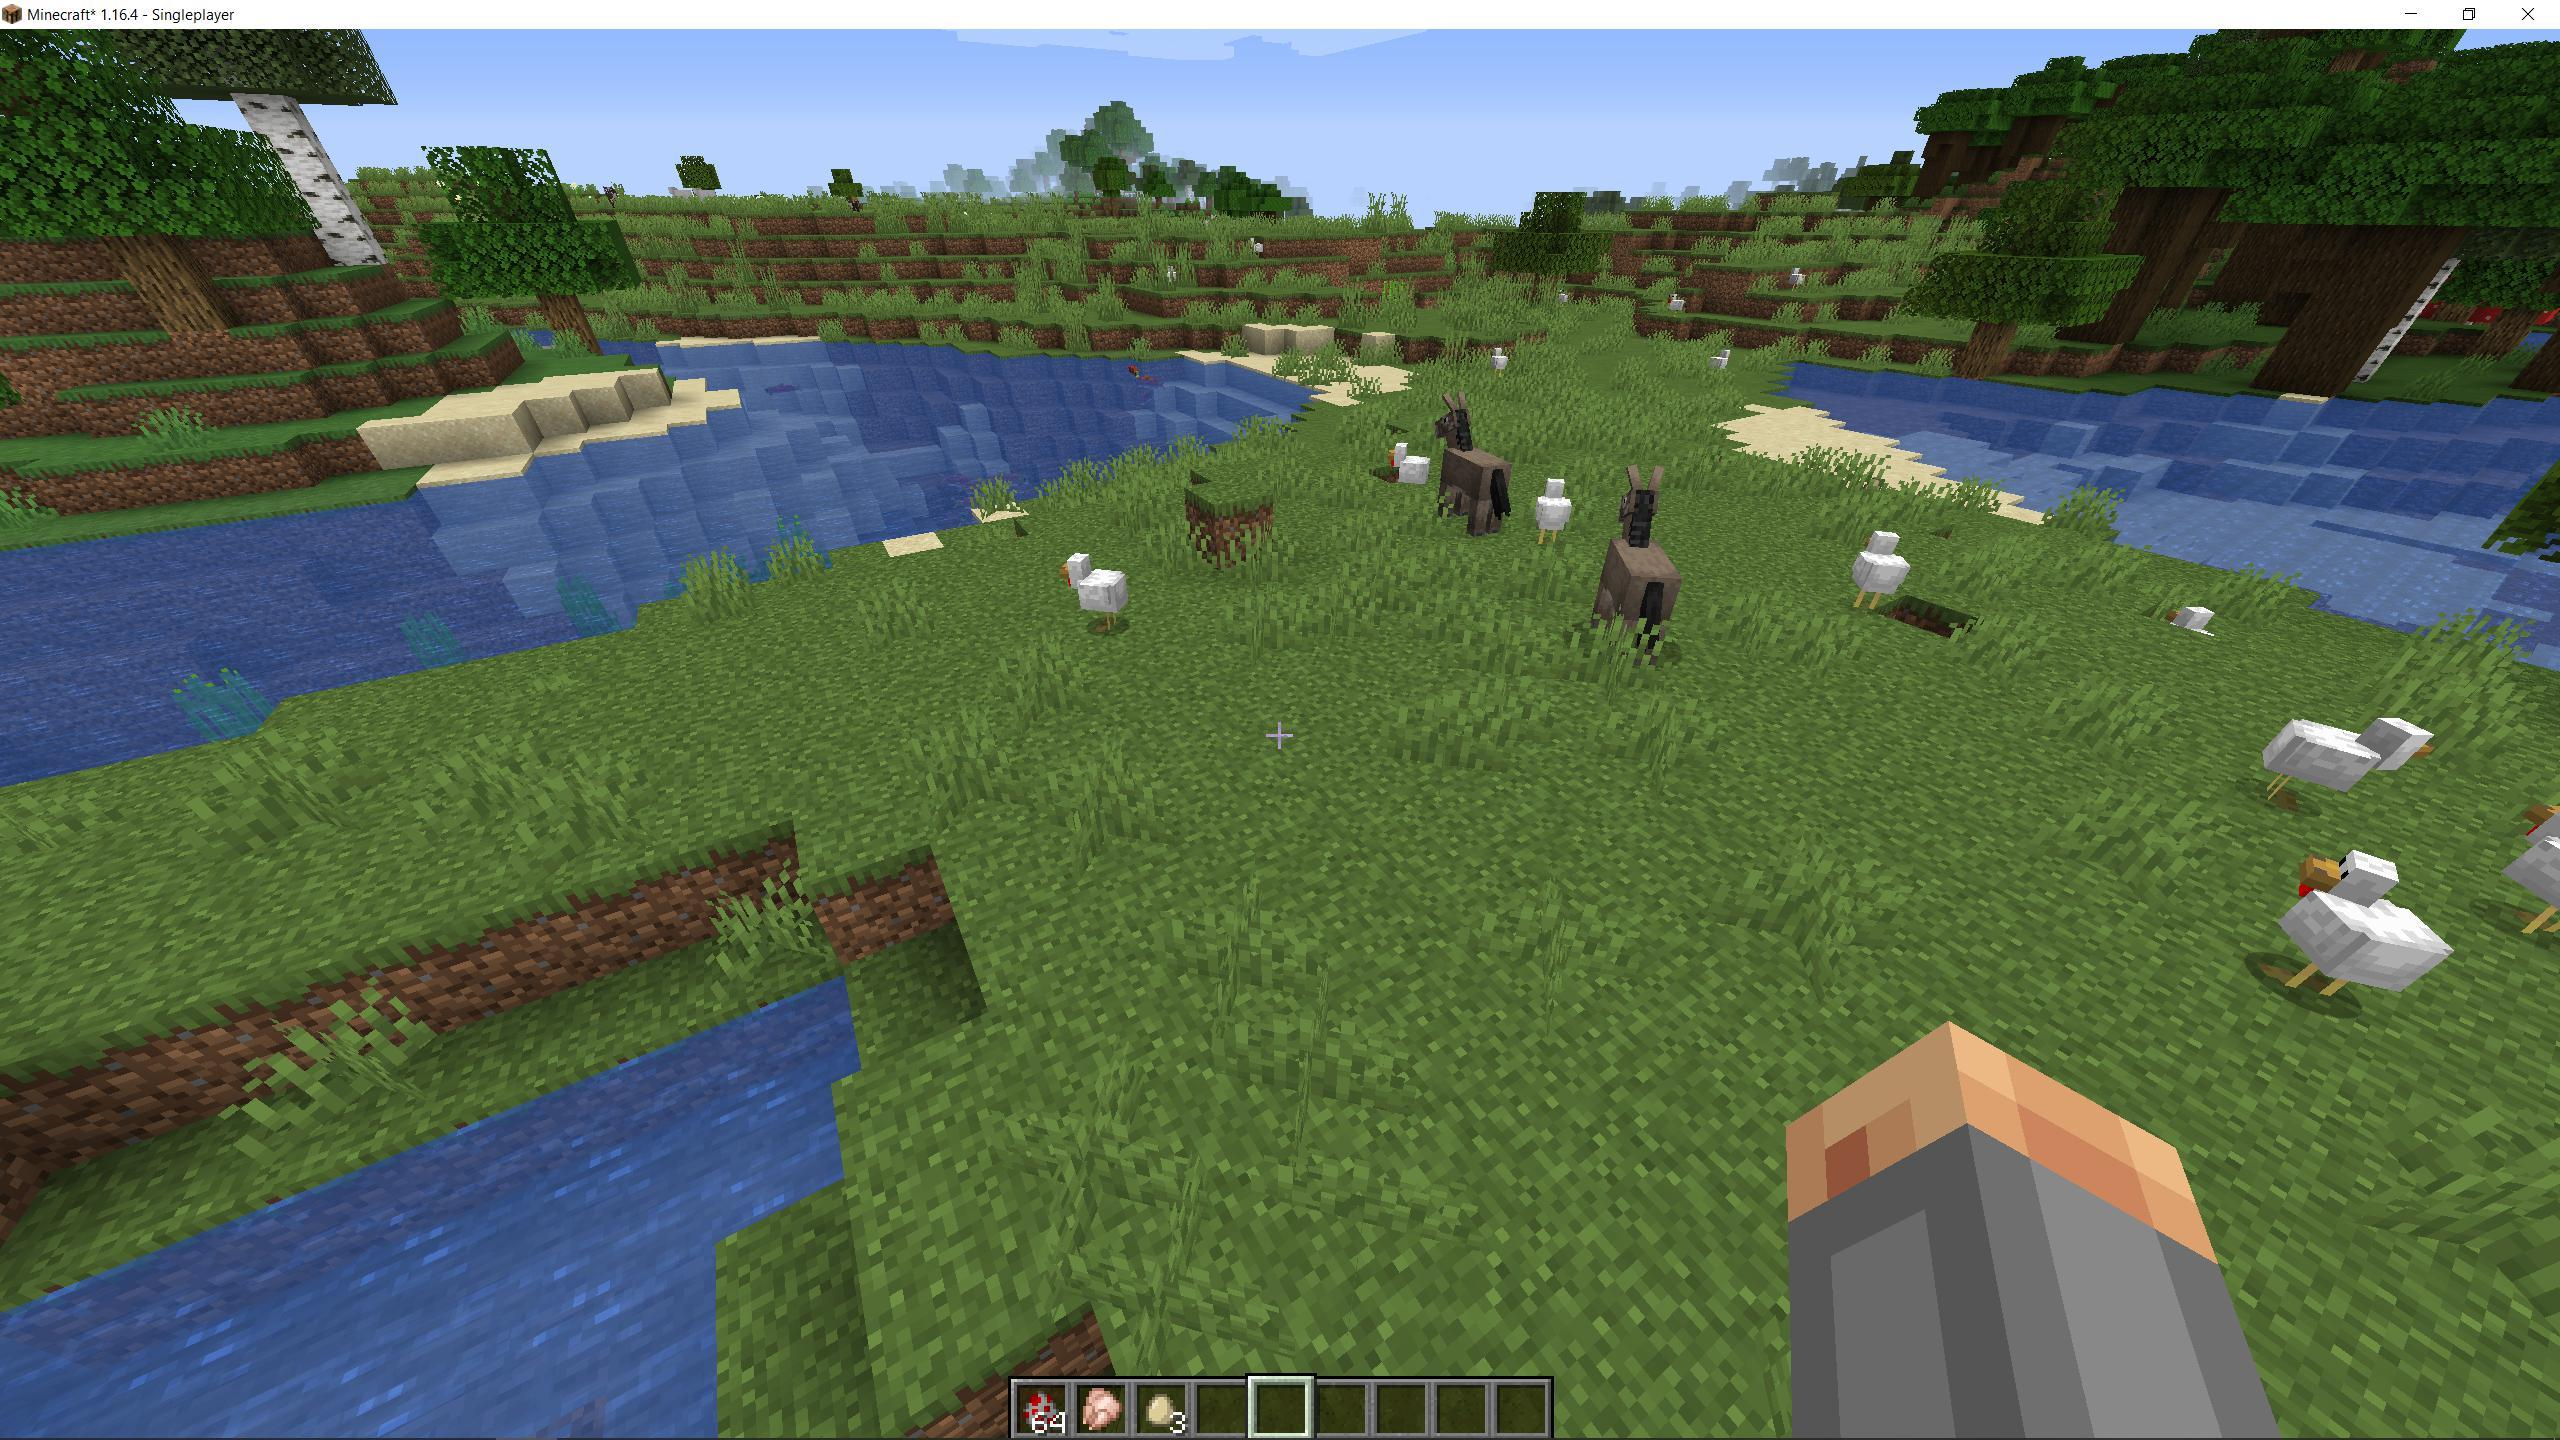chicken: (2268, 846, 2463, 1023), (2258, 705, 2435, 818), (1058, 547, 1138, 640)
